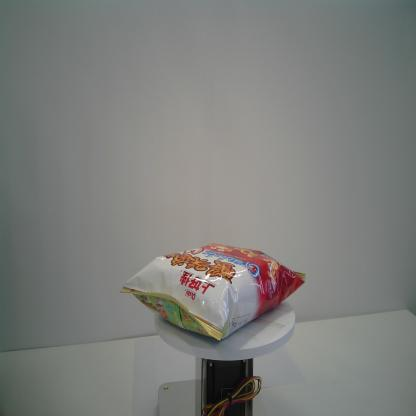Puffed Food: (116, 240, 305, 342)
